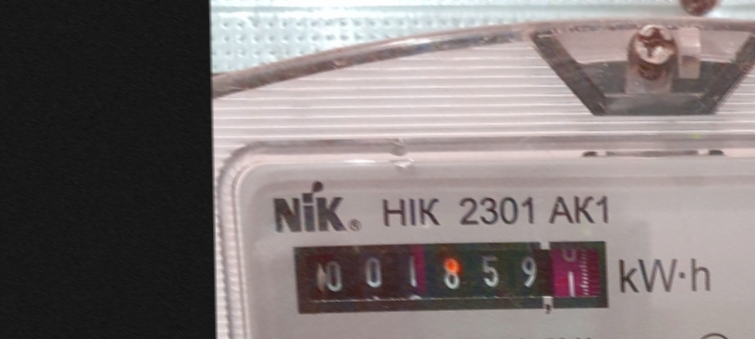0: (324, 258, 344, 294), (363, 255, 383, 289)
1: (407, 253, 419, 289), (564, 268, 577, 298)
5: (480, 253, 501, 289)
8: (441, 255, 462, 291)
9: (519, 254, 539, 288)
screen: (282, 228, 619, 324)
